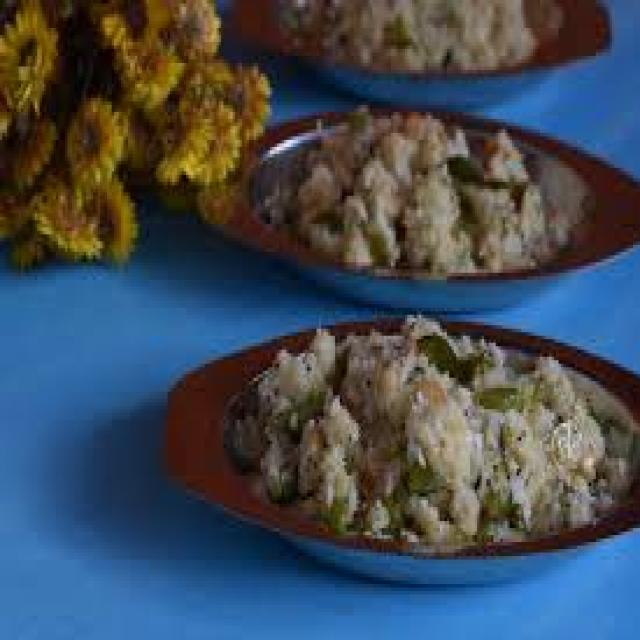UPMA: (221, 311, 624, 546)
